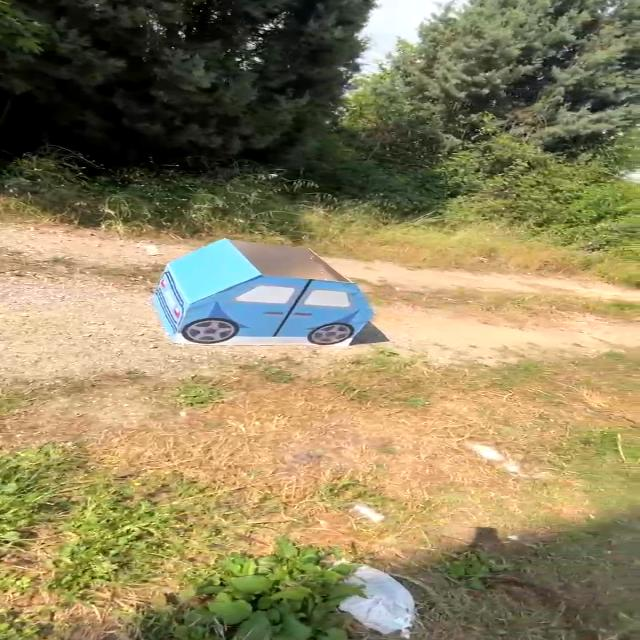blue_car: (104, 230, 405, 362)
